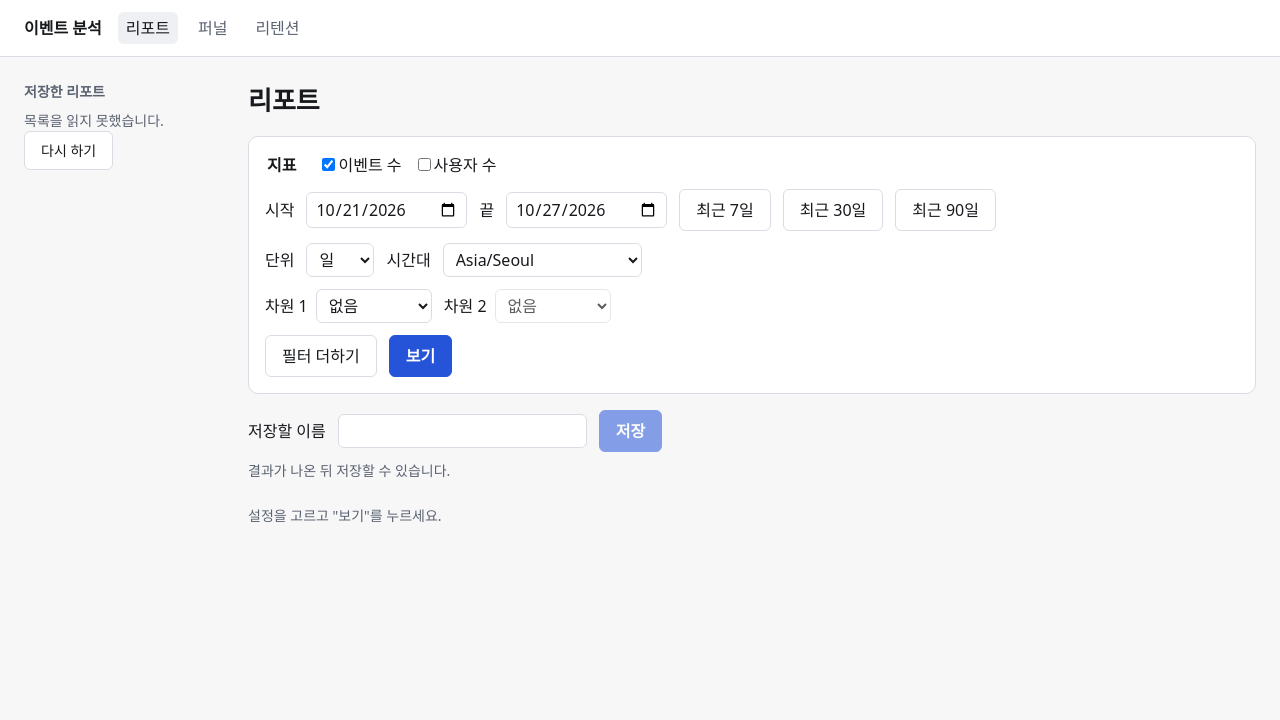
Test case: 왼쪽 목록 › 목록을 못 읽으면 알리고 다시 할 수 있다
Expected: the text "목록을 읽지 못했습니다. 다시 하기" is shown, [24,111,164,170]
Click the button "다시 하기" at (69, 150), box [24,131,113,170]
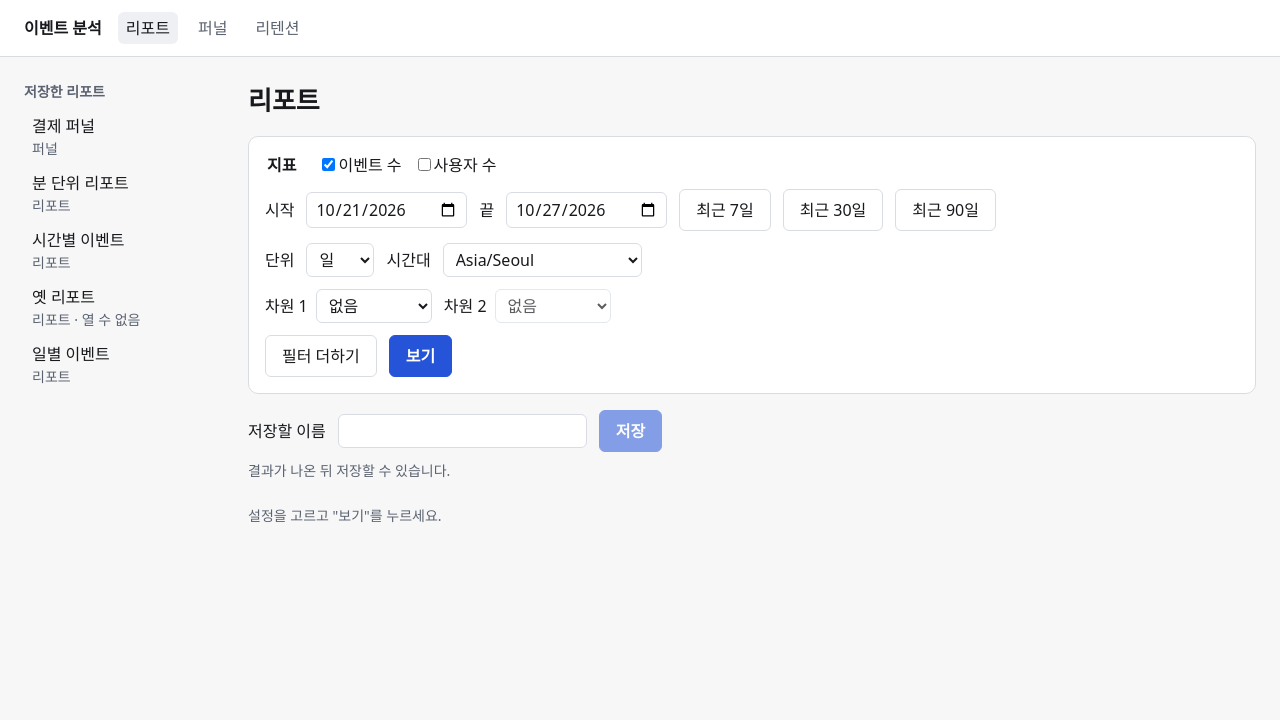
Expected: the link "일별 이벤트 리포트" is shown, [32,342,113,386]
